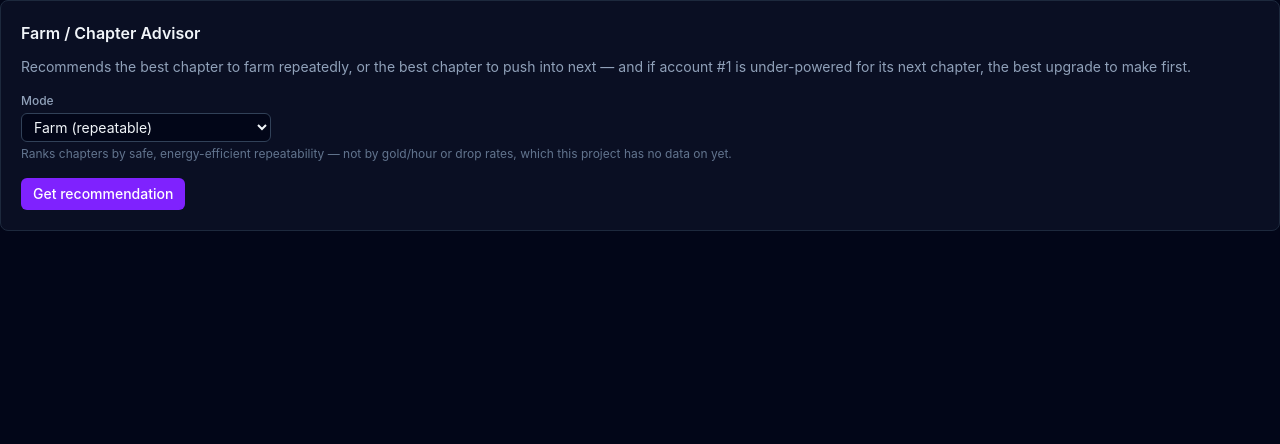
FarmAdvisorPage › defaults to farm mode and renders the recommended chapter
Click the button "Get recommendation" at (103, 194), box top-left (21, 178), bottom-right (185, 210)
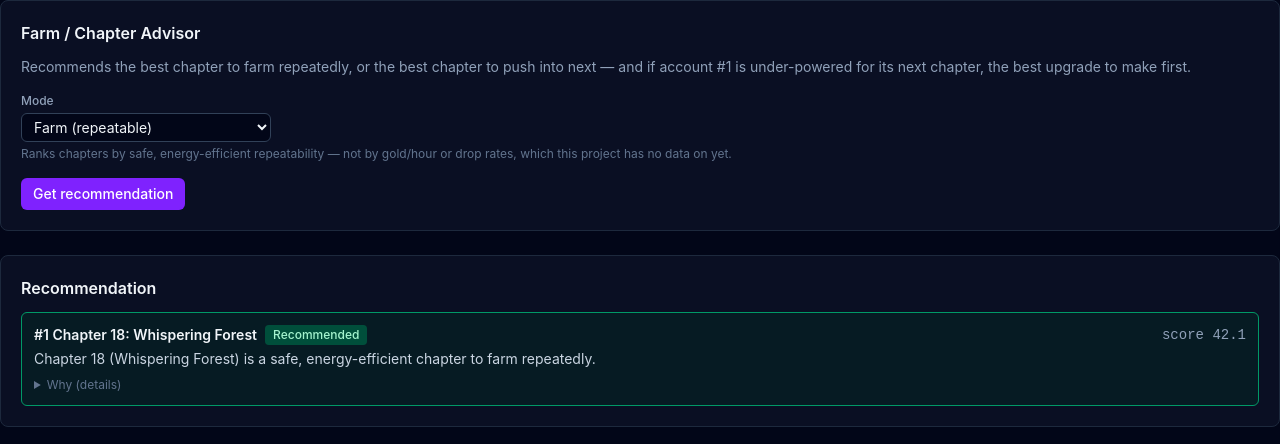
Check: the text "Chapter 18 (Whispering Forest) is a safe, energy-efficient chapter to farm repeatedly." is shown, box top-left (34, 350), bottom-right (596, 367)
Check: the text "Recommended" is shown, box top-left (265, 325), bottom-right (367, 345)
